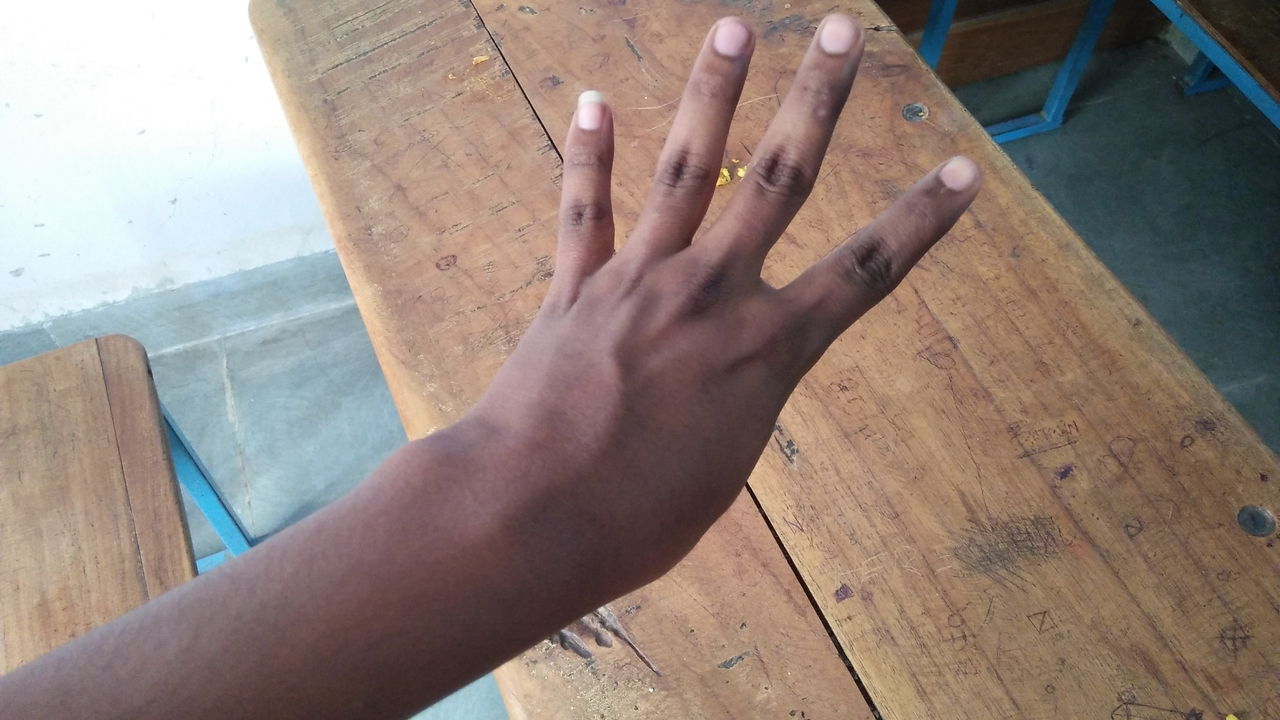fingertip: (918, 142, 994, 204), (814, 8, 874, 68), (704, 10, 758, 64), (562, 84, 618, 134)
